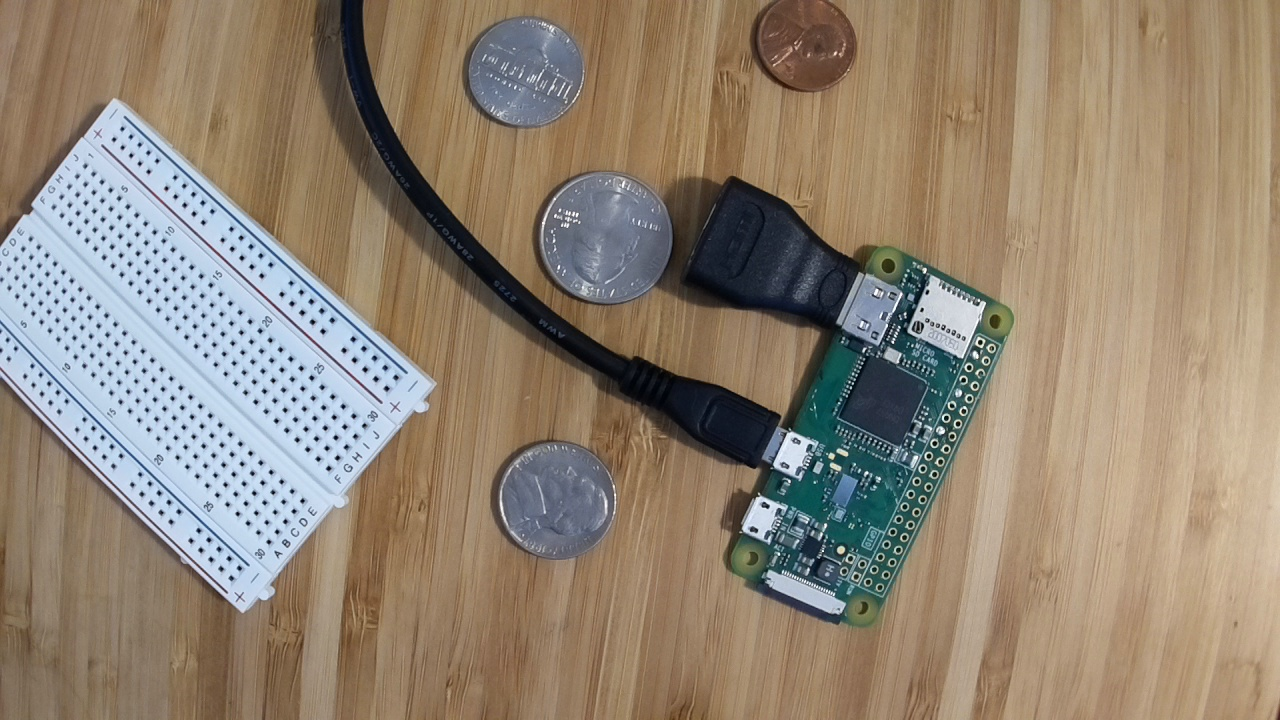nickel: (492, 438, 618, 564), (459, 12, 589, 128)
penny: (750, 0, 860, 94)
quarter: (535, 166, 671, 308)
